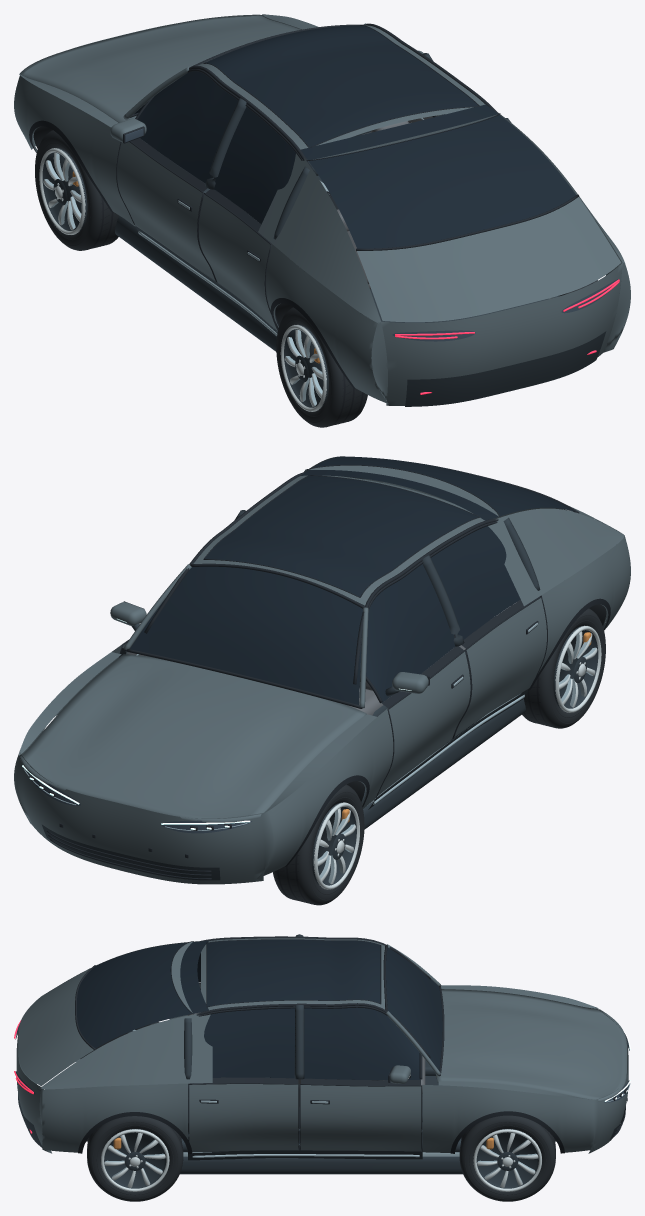
The model's file is EV01 Concept.fbx.
3 views of the same model, one above another, from view 1: azimuth 30°, elevation 25°; view 2: azimuth 150°, elevation 25°; view 3: azimuth 270°, elevation 25° (orthographic). The views are drawn at different scales.
Parts seen in each view (by area): view 1: Paint__Body, Glass__Trunk, Paint__Trunk, Glass__Body, Paint__Hood, Graphite__Body, Paint__Door_FL, Glass__Door_FL, Glass__Door_RL, Paint__Door_RL, Seal__Body, Graphite__Battery (+14 smaller); view 2: Glass__Body, Paint__Body, Paint__Hood, Glass__Door_FL, Seal__Body, Paint__Door_FL, Paint__Door_RL, Glass__Door_RL, Glass__Trunk, Graphite__Body, Tire__Wheel_FL, Graphite__Battery (+11 smaller); view 3: Paint__Body, Paint__Hood, Glass__Body, Glass__Trunk, Paint__Door_FR, Paint__Door_RR, Glass__Door_FR, Glass__Door_RR, Paint__Trunk, Graphite__Battery, Seal__Body, Graphite__Body (+9 smaller).
Part boxes in pixels (x1,y1,x2,y2): Paint__Body: [14, 14, 630, 405]; Glass__Trunk: [301, 104, 575, 248]; Paint__Trunk: [313, 114, 621, 322]; Glass__Body: [134, 25, 478, 147]; Paint__Hood: [20, 14, 300, 122]; Graphite__Body: [135, 53, 606, 406]; Paint__Door_FL: [110, 118, 215, 280]; Glass__Door_FL: [137, 71, 238, 183]; Glass__Door_RL: [214, 107, 295, 224]; Paint__Door_RL: [199, 194, 277, 331]; Seal__Body: [29, 23, 500, 389]; Graphite__Battery: [115, 216, 277, 351]; Glass__Body: [130, 475, 478, 704]; Paint__Body: [14, 456, 630, 884]; Paint__Hood: [20, 654, 366, 822]; Glass__Door_FL: [360, 564, 455, 702]; Seal__Body: [29, 472, 610, 879]; Paint__Door_FL: [377, 651, 470, 795]; Paint__Door_RL: [454, 598, 546, 737]; Glass__Door_RL: [431, 526, 520, 639]; Glass__Trunk: [300, 456, 575, 520]; Graphite__Body: [42, 469, 540, 880]; Tire__Wheel_FL: [273, 784, 364, 905]; Graphite__Battery: [363, 693, 525, 829]; Paint__Body: [16, 938, 628, 1153]; Paint__Hood: [435, 989, 626, 1101]; Glass__Body: [207, 939, 442, 1070]; Glass__Trunk: [77, 941, 208, 1048]; Paint__Door_FR: [300, 1065, 421, 1151]; Paint__Door_RR: [189, 1084, 298, 1152]; Glass__Door_FR: [304, 1007, 420, 1079]; Glass__Door_RR: [204, 1008, 294, 1078]; Paint__Trunk: [18, 941, 192, 1086]; Graphite__Battery: [180, 1096, 462, 1174]; Seal__Body: [78, 936, 627, 1154]; Graphite__Body: [18, 934, 625, 1160].
Size of the model in its own units: 2.16 by 1.62 by 4.79.
